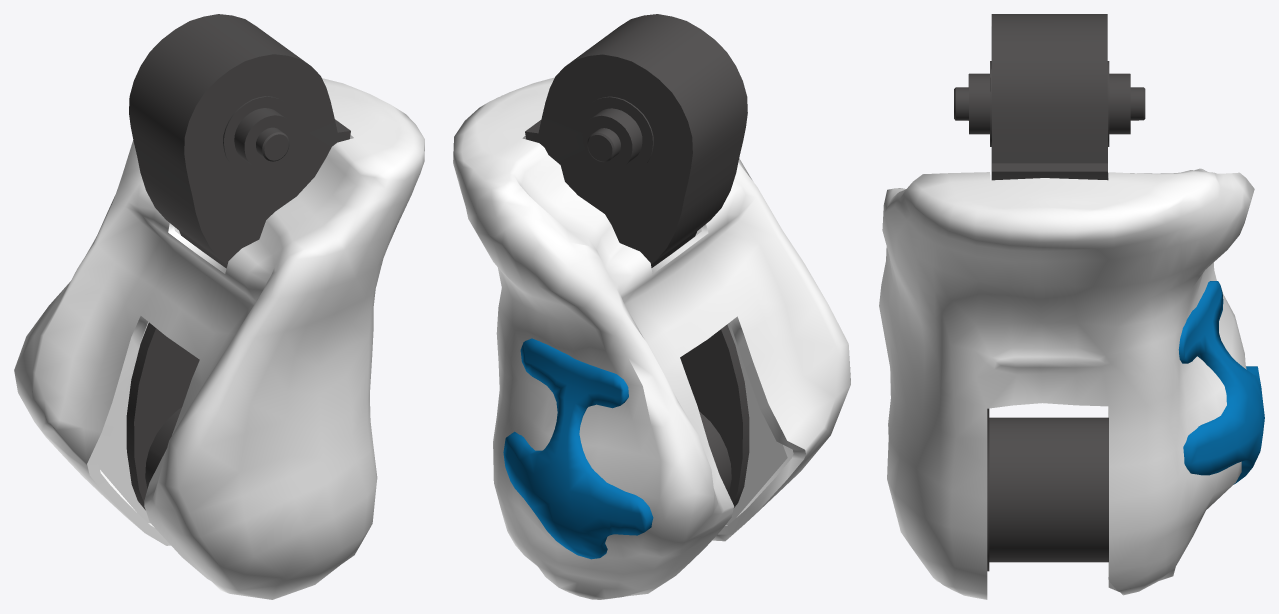
File: LKneePitch.dae
3 views of the same model, side by side, from view 1: azimuth 30°, elevation 25°; view 2: azimuth 150°, elevation 25°; view 3: azimuth 270°, elevation 25° (orthographic). The views are drawn at different scales.
Visible parts, largest first — view 1: LKneePitch; view 2: LKneePitch; view 3: LKneePitch.
Boxes of the visible parts, <box> form: LKneePitch: <box>14,14,424,599</box>; LKneePitch: <box>453,14,850,599</box>; LKneePitch: <box>879,14,1264,599</box>.
Bounding box in the file's own units: 0.8968 × 0.9329 × 1.48.
1 material, 1 textured.
